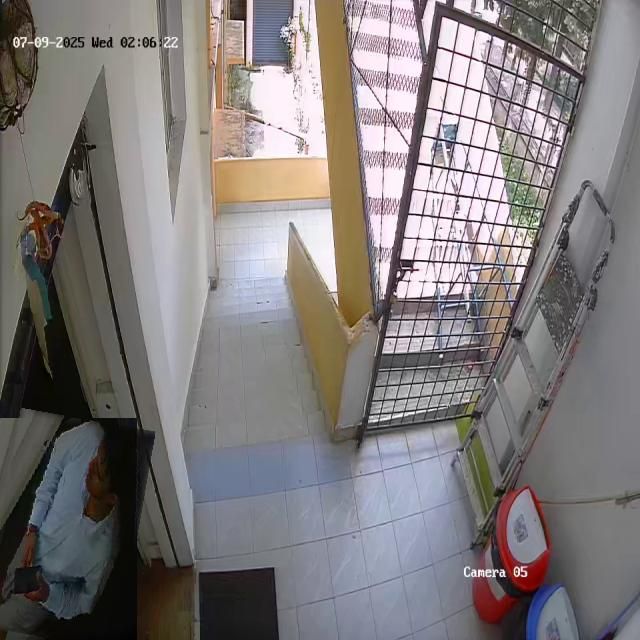person: (0, 413, 145, 640)
